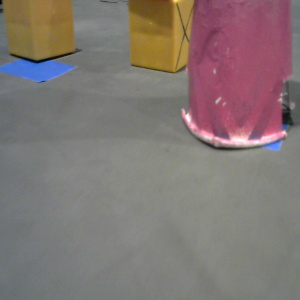right: (182, 1, 293, 147)
